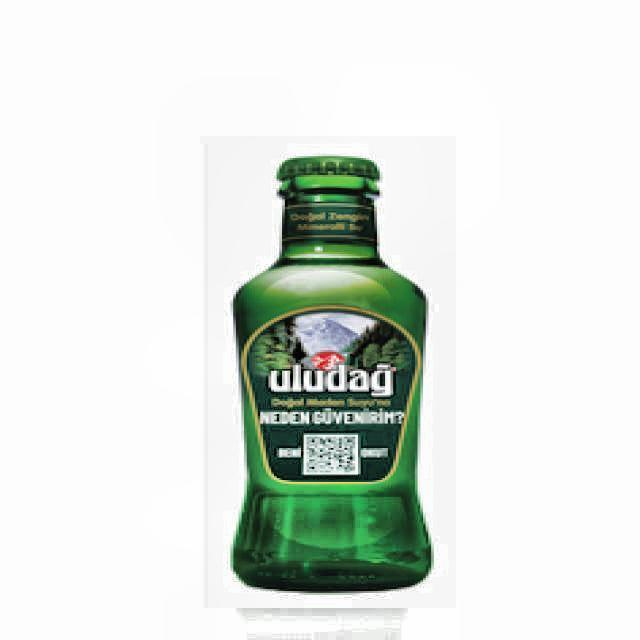glass: (230, 156, 435, 596)
